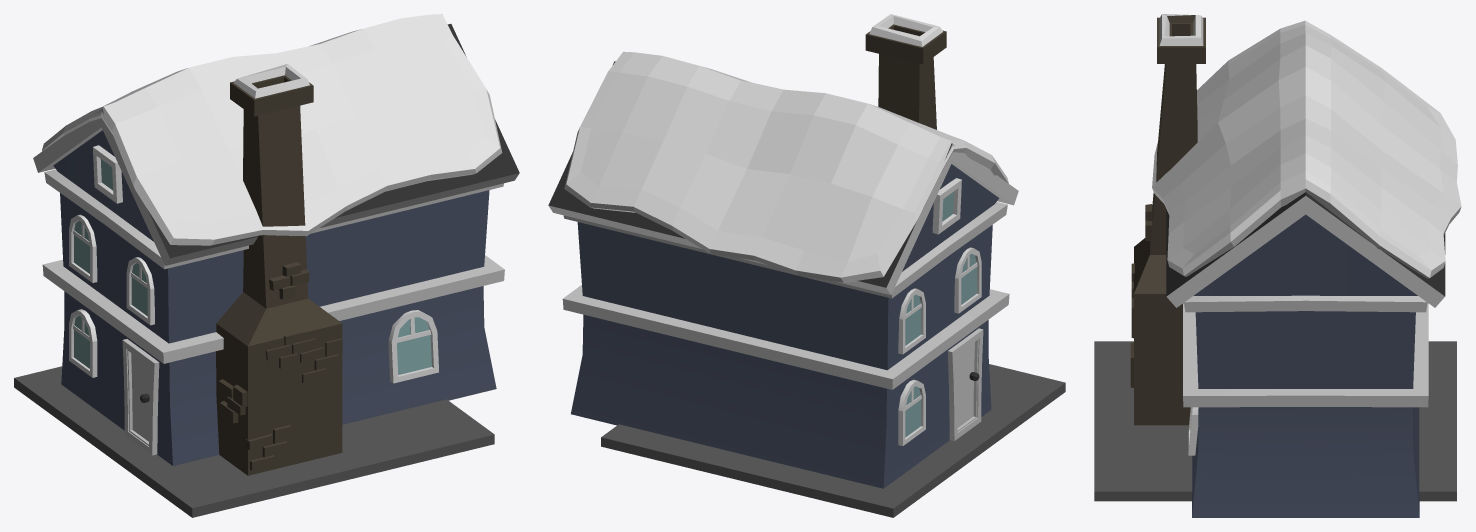
The model's file is House_V04.fbx.
3 views of the same model, side by side, from view 1: azimuth 30°, elevation 25°; view 2: azimuth 150°, elevation 25°; view 3: azimuth 270°, elevation 25° (orthographic). The views are drawn at different scales.
Visible parts, largest first — view 1: House_V04; view 2: House_V04; view 3: House_V04.
Boxes of the visible parts, x1,y1,x2,y2 form: House_V04: [14, 14, 519, 517]; House_V04: [548, 14, 1065, 517]; House_V04: [1094, 14, 1461, 517].
Size of the model in its own units: 8.41 by 8.36 by 7.2.
